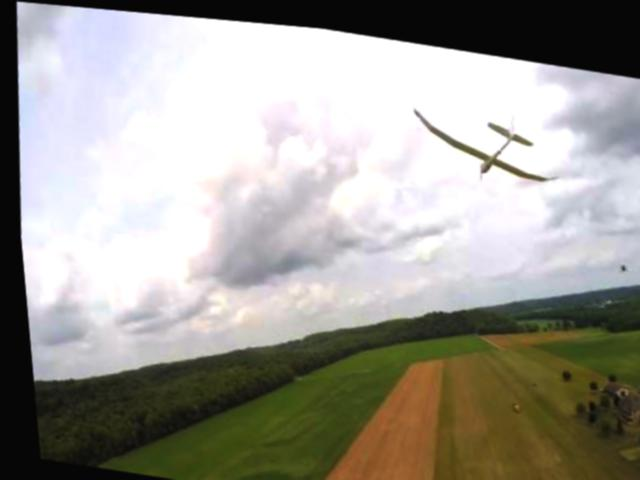uav: (404, 85, 562, 177)
